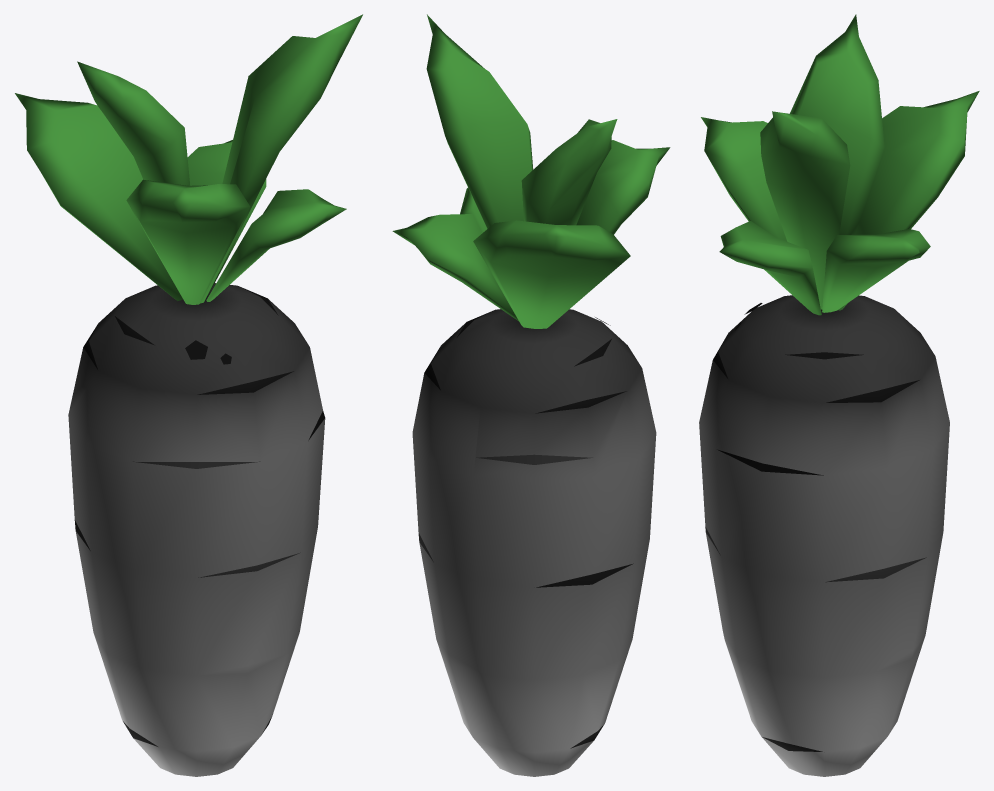
Rendered from carrot-colored.fbx.
The picture shows the model from 3 angles, left to right: view 1: azimuth 30°, elevation 25°; view 2: azimuth 150°, elevation 25°; view 3: azimuth 270°, elevation 25°; orthographic projection. The views are drawn at different scales.
Visible parts, largest first — view 1: carrot_colored; view 2: carrot_colored; view 3: carrot_colored.
Boxes of the visible parts, <box> form: carrot_colored: <box>15,14,362,776</box>; carrot_colored: <box>392,14,670,776</box>; carrot_colored: <box>699,14,979,776</box>.
Bounding box in the file's own units: 21.21 × 57.68 × 20.05.
